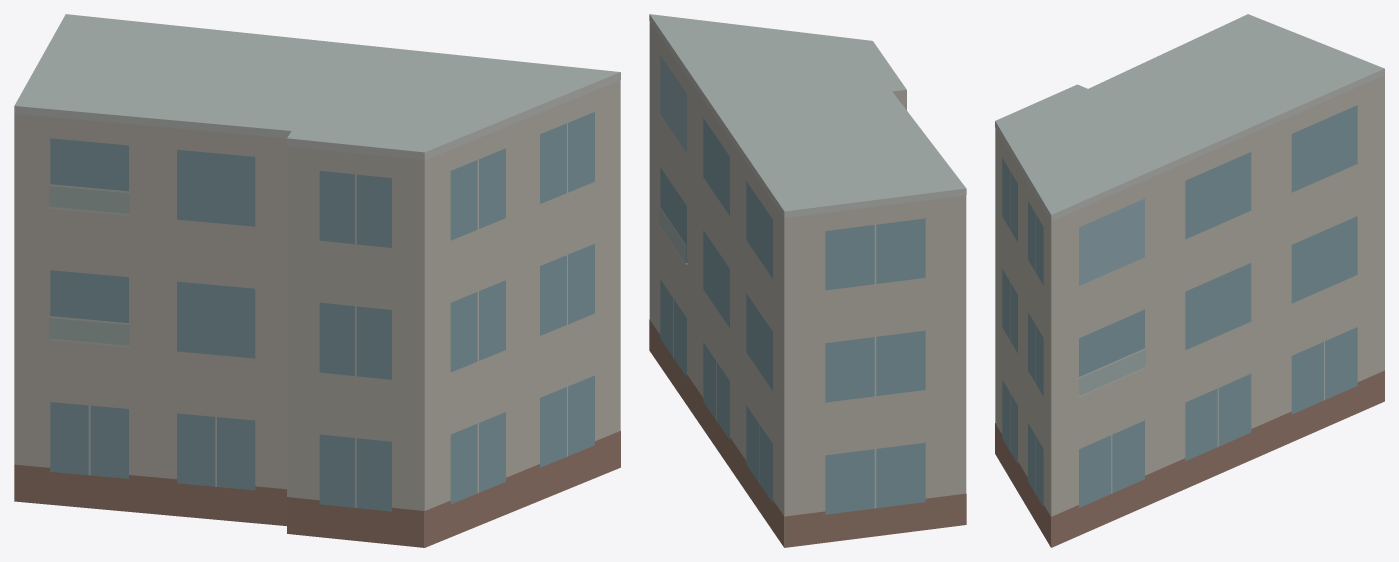
File: survey-upis-32947300.glb
3 renders of one model, left to right at view 1: azimuth 30°, elevation 25°; view 2: azimuth 150°, elevation 25°; view 3: azimuth 270°, elevation 25°, orthographic. The views are drawn at different scales.
Parts seen in each view (by area): view 1: survey-upis-32947300.tmp; view 2: survey-upis-32947300.tmp; view 3: survey-upis-32947300.tmp.
Part boxes in pixels (x1,y1,x2,y2): survey-upis-32947300.tmp: (14,14,620,547); survey-upis-32947300.tmp: (649,14,966,547); survey-upis-32947300.tmp: (995,14,1384,547).
Size of the model in its own units: 15.94 by 12.3 by 13.06.
